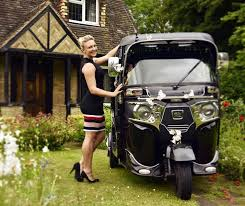tuk tuk: (108, 32, 223, 201)
